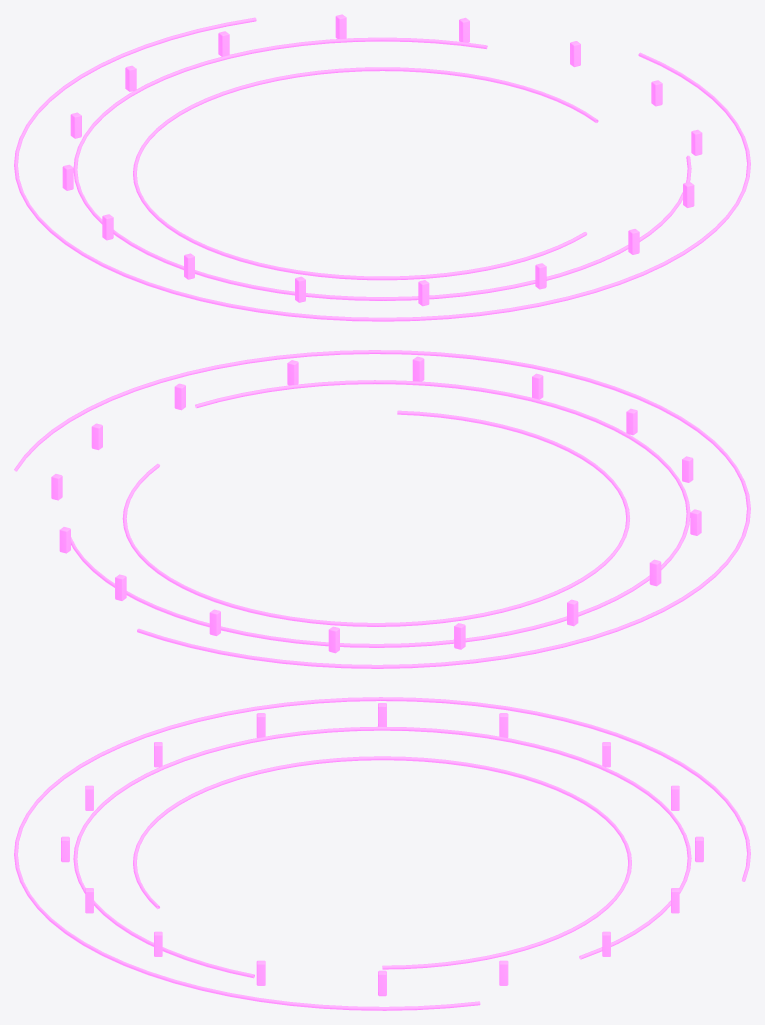
File: VXFX_JAM_FIELD_v002.fbx
The picture shows the model from 3 angles, top to bottom: view 1: azimuth 30°, elevation 25°; view 2: azimuth 150°, elevation 25°; view 3: azimuth 270°, elevation 25°; orthographic projection.
Parts seen in each view (by area): view 1: Jamming pulse arc.002, Jamming pulse arc.001, Jamming pulse arc; view 2: Jamming pulse arc.002, Jamming pulse arc.001, Jamming pulse arc; view 3: Jamming pulse arc.002, Jamming pulse arc.001, Jamming pulse arc.
Part boxes in pixels (x1=…): Jamming pulse arc.002: x1=14, y1=17, x2=750, y2=321; Jamming pulse arc.001: x1=73, y1=37, x2=691, y2=300; Jamming pulse arc: x1=133, y1=67, x2=598, y2=280; Jamming pulse arc.002: x1=14, y1=350, x2=750, y2=668; Jamming pulse arc.001: x1=71, y1=380, x2=690, y2=647; Jamming pulse arc: x1=122, y1=410, x2=629, y2=626; Jamming pulse arc.002: x1=14, y1=697, x2=750, y2=1010; Jamming pulse arc.001: x1=73, y1=726, x2=691, y2=978; Jamming pulse arc: x1=133, y1=756, x2=631, y2=969.
Size of the model in its own units: 74.4 by 2.92 by 74.4.
